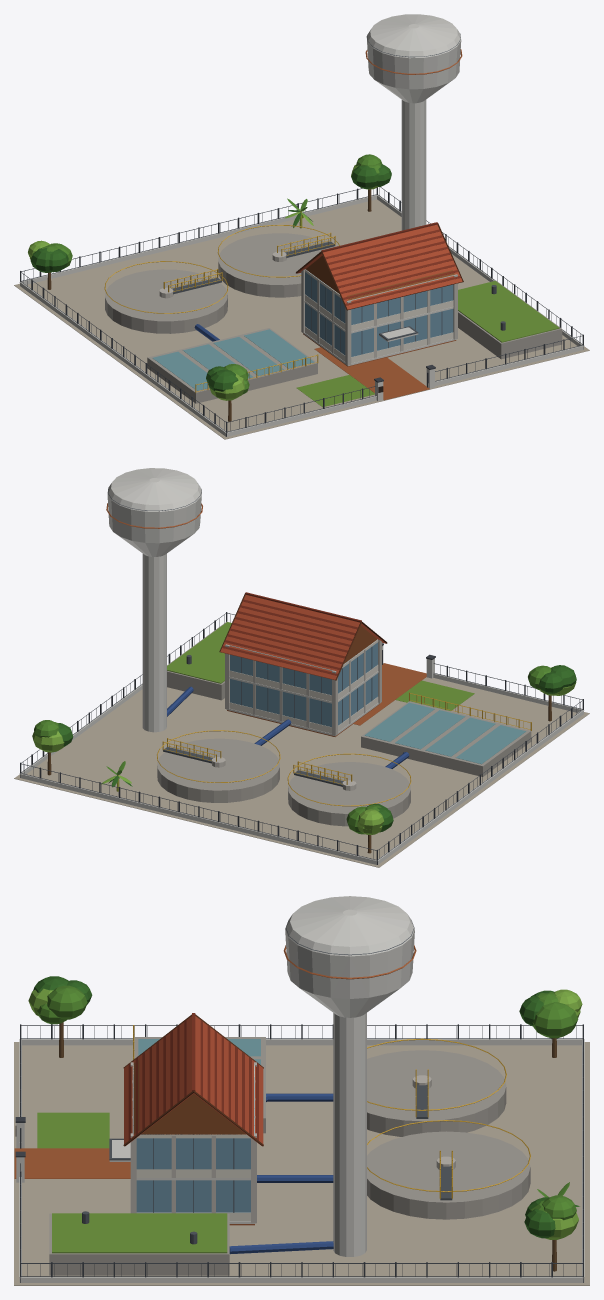
Rendered from water_works.glb.
3 views of the same model, one above another, from view 1: azimuth 30°, elevation 25°; view 2: azimuth 150°, elevation 25°; view 3: azimuth 270°, elevation 25° (orthographic). The views are drawn at different scales.
Parts seen in each view (by area): view 1: body; view 2: body; view 3: body.
Boxes of the visible parts, x1,y1,x2,y2 form: body: (14,14,589,439); body: (14,468,589,867); body: (14,896,589,1285).
Bounding box in the file's own units: 47.9 × 31.03 × 47.9.
